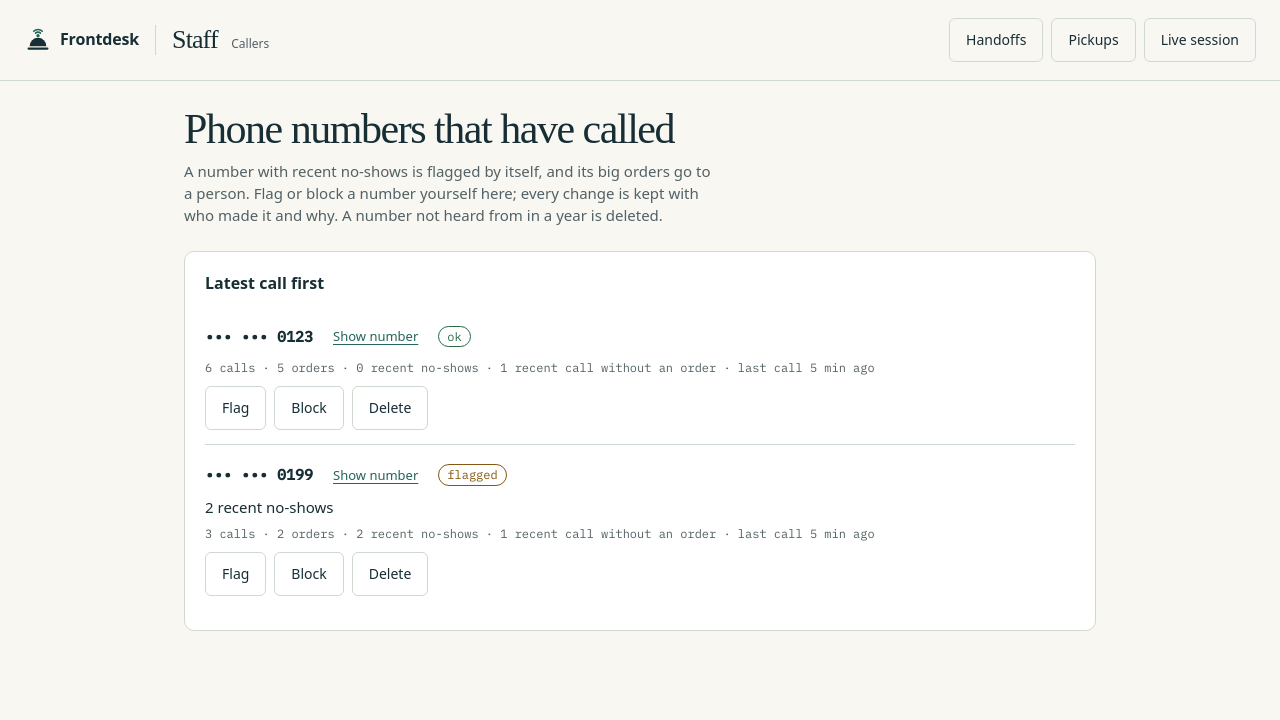
Test: the callers page › shows a whole number only when asked
Click the button "Show number" next to "••• ••• 0199".
click(376, 475)  # box 325,459 -> 426,491
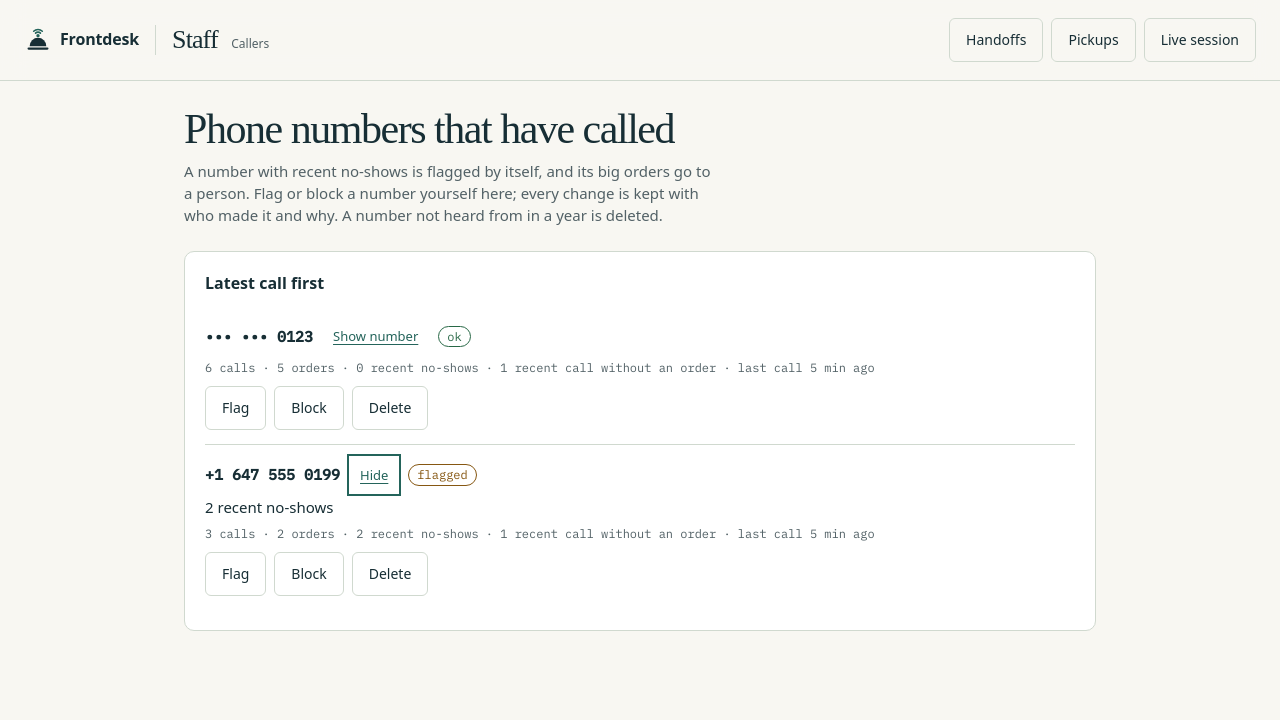
expect the list item named "Number ending 0199" shows "+1 647 555 0199": met, box 205,465 -> 340,484
